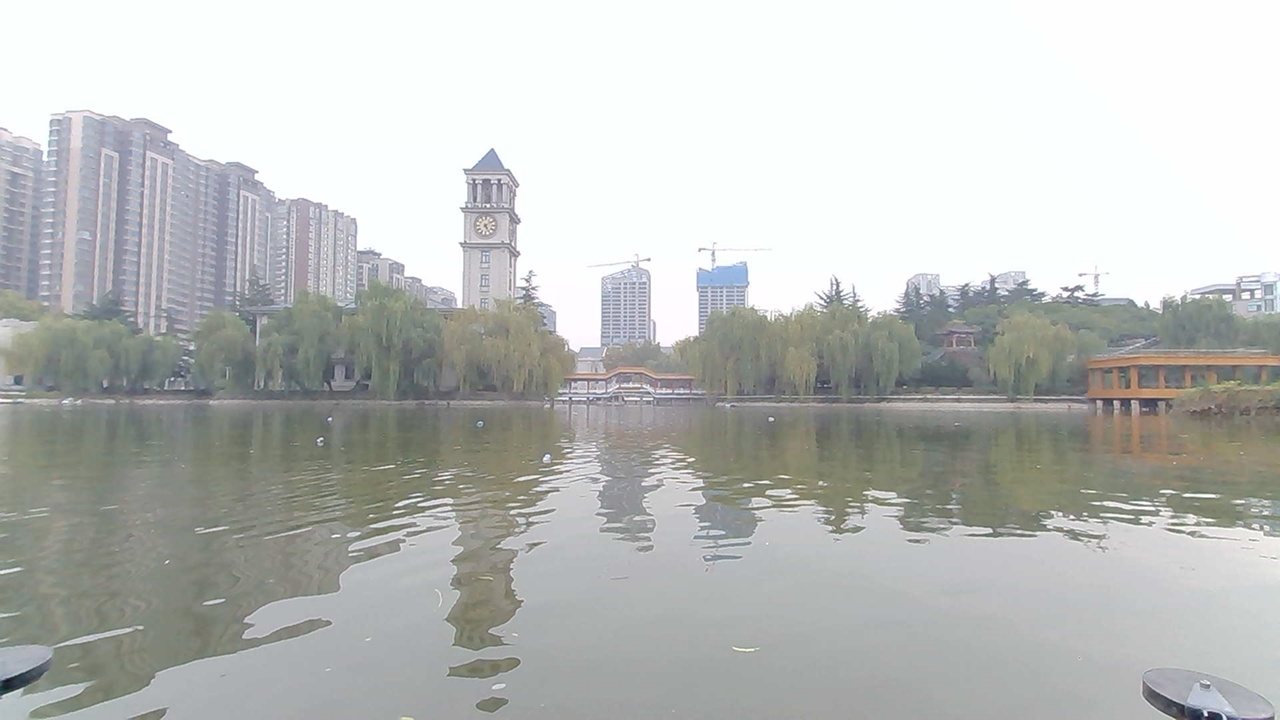bottle: (527, 445, 587, 478), (461, 406, 512, 439), (297, 431, 338, 454), (747, 410, 786, 433), (312, 403, 348, 427)
